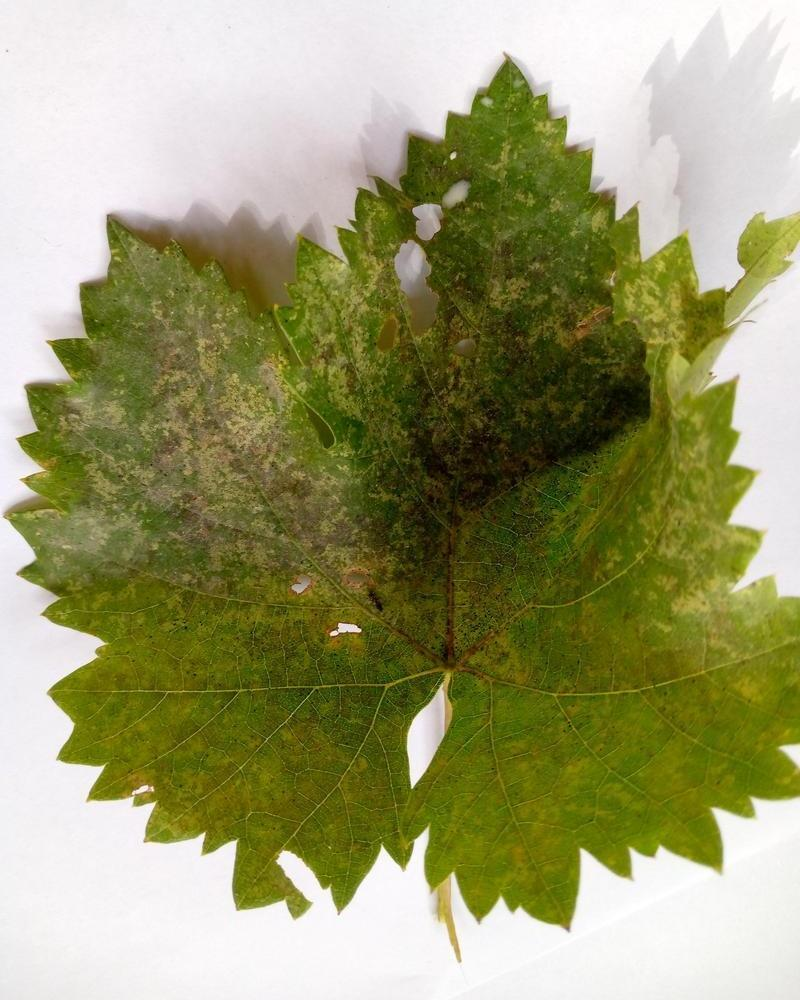Powdery-Mildew: (128, 309, 271, 460), (245, 469, 376, 614), (41, 507, 143, 572), (347, 288, 410, 351), (58, 381, 121, 444), (165, 471, 228, 534)
